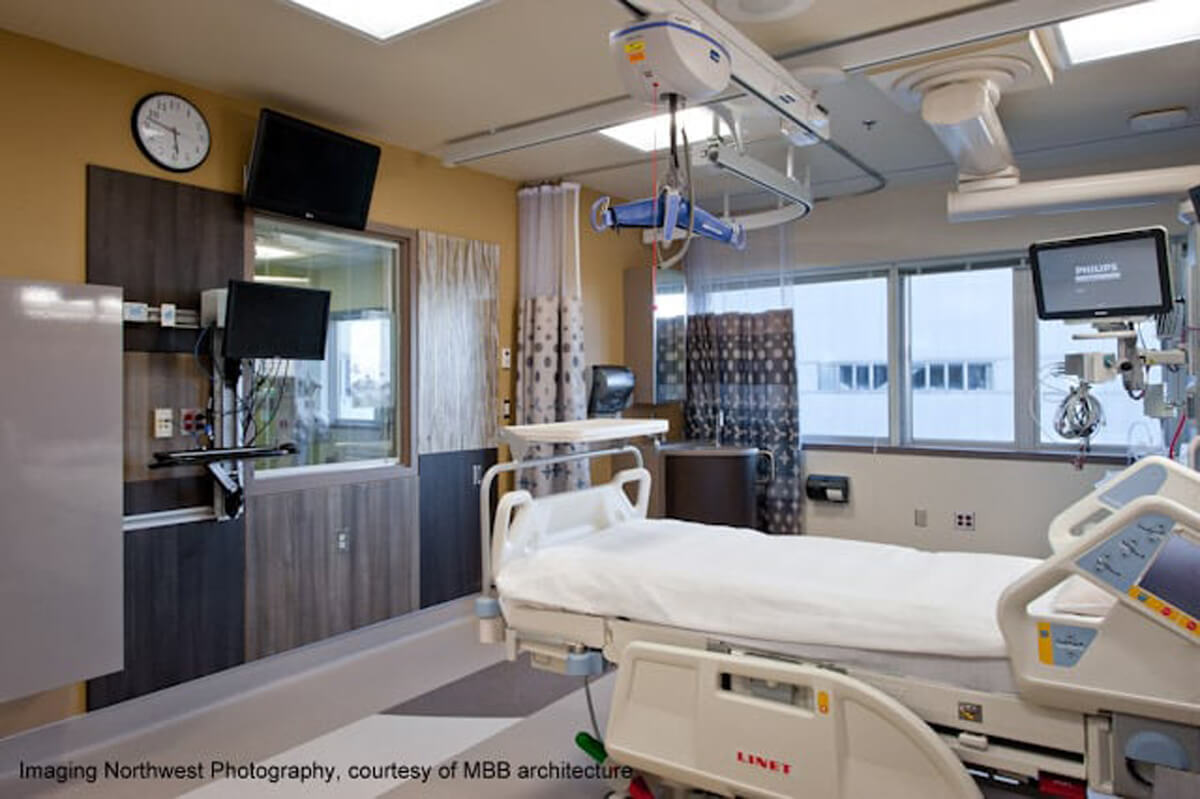TV: (239, 108, 384, 233)
bedrail: (609, 643, 986, 799), (995, 494, 1200, 732), (1042, 457, 1200, 565)
bedside_monitor: (1030, 223, 1172, 319)
computer: (223, 276, 335, 362)
curtain: (650, 310, 808, 542), (508, 183, 594, 499)
faucet: (714, 409, 728, 445)
foot_board: (479, 445, 673, 590)
hospital_bed: (475, 444, 1200, 799)
keyboard: (154, 446, 288, 465)
sink: (664, 441, 760, 459)
